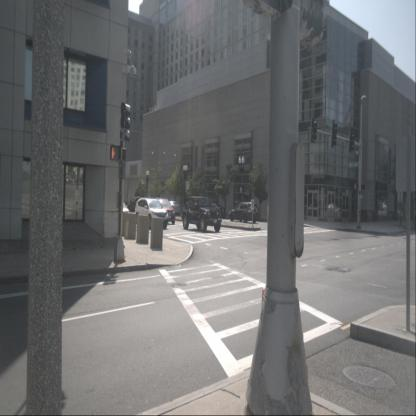vehicle-car: (181, 196, 222, 233), (135, 197, 169, 230), (229, 202, 259, 224), (105, 198, 130, 224), (152, 198, 176, 225), (128, 196, 144, 212), (165, 201, 182, 216), (326, 204, 343, 219), (212, 203, 226, 217), (377, 202, 389, 211)
